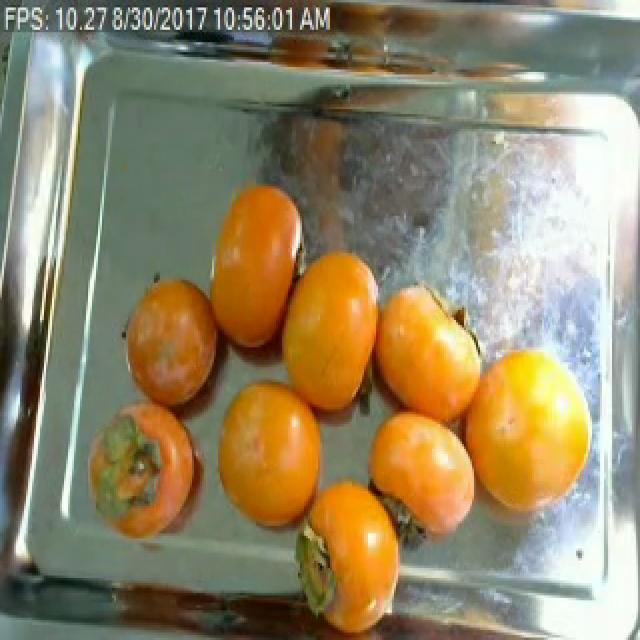Fruit: (204, 362, 332, 556), (300, 461, 412, 640), (200, 171, 312, 340), (114, 265, 232, 422)
